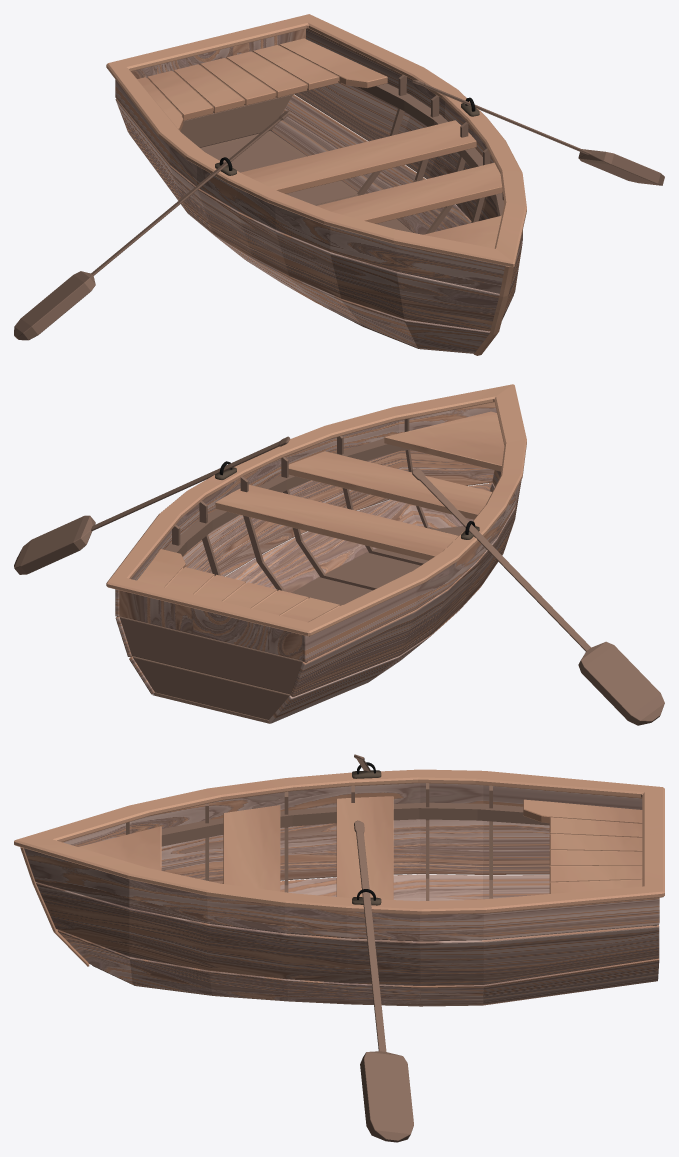
Rendered from boat.fbx.
3 views of the same model, one above another, from view 1: azimuth 30°, elevation 25°; view 2: azimuth 150°, elevation 25°; view 3: azimuth 270°, elevation 25° (orthographic). The views are drawn at different scales.
Visible parts, largest first — view 1: Boat Main Shape.mid, Boat Top Edge, Boat Main Shape.up, 立方体.003, Boat Main Shape.down, 立方体, 立方体.005, 立方体.001, Boat Main Shape.bottom, Boat Back Part.003, Boat Main Shape.bone, Inner Rim (+3 smaller); view 2: Boat Top Edge, Boat Main Shape.mid, 立方体.005, Boat Main Shape.up, Boat Main Shape.down, 立方体, Boat Back Part.002, 立方体.001, 立方体.003, Boat Back Part.001, Boat Back Part.003, 立方体.002 (+3 smaller); view 3: Boat Main Shape.mid, Boat Main Shape.up, Boat Top Edge, Boat Main Shape.down, 立方体.003, 立方体.005, 立方体, 立方体.001, Inner Rim, 立方体.002, Boat Main Shape.bone, Boat Main Shape.bottom.
Boxes of the visible parts, x1,y1,x2,y2 form: Boat Main Shape.mid: (115, 82, 522, 331); Boat Top Edge: (106, 14, 526, 267); Boat Main Shape.up: (115, 28, 522, 293); 立方体.003: (137, 38, 387, 131); Boat Main Shape.down: (129, 94, 513, 352); 立方体: (241, 120, 476, 193); 立方体.005: (14, 80, 664, 340); 立方体.001: (317, 162, 502, 223); Boat Main Shape.bottom: (200, 131, 474, 353); Boat Back Part.003: (180, 94, 293, 147); Boat Main Shape.bone: (314, 75, 503, 234); Inner Rim: (358, 83, 504, 216); Boat Top Edge: (106, 384, 526, 636); Boat Main Shape.mid: (115, 449, 521, 696); 立方体.005: (14, 436, 664, 725); Boat Main Shape.up: (115, 402, 520, 662); Boat Main Shape.down: (129, 483, 497, 723); 立方体: (215, 484, 458, 560); Boat Back Part.002: (117, 616, 307, 694); 立方体.001: (288, 451, 492, 519); 立方体.003: (137, 549, 342, 622); Boat Back Part.001: (119, 590, 302, 660); Boat Back Part.003: (131, 656, 290, 719); 立方体.002: (384, 411, 504, 471); Boat Main Shape.mid: (36, 819, 659, 985); Boat Main Shape.up: (24, 783, 659, 941); Boat Top Edge: (14, 769, 664, 914); Boat Main Shape.down: (58, 874, 659, 1005); 立方体.003: (523, 799, 642, 893); 立方体.005: (354, 754, 413, 1142); 立方体: (336, 796, 393, 899); 立方体.001: (223, 805, 280, 891); Inner Rim: (161, 802, 549, 846); 立方体.002: (78, 826, 161, 870); Boat Main Shape.bone: (126, 783, 492, 900); Boat Main Shape.bottom: (92, 965, 626, 1006).
Size of the model in its own units: 845 by 226 by 697.
